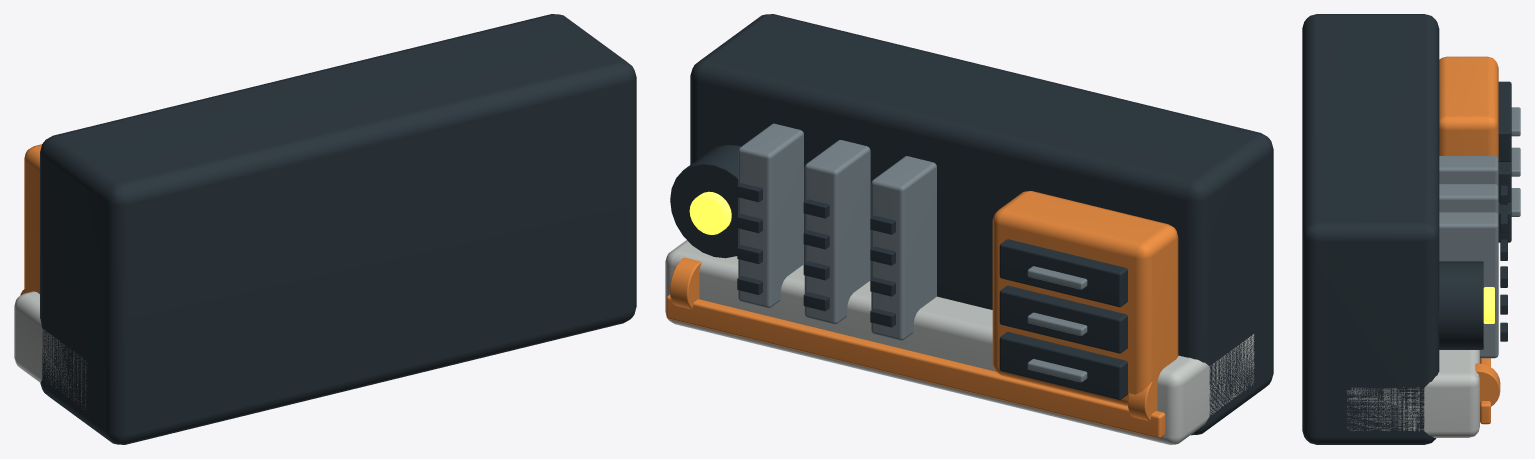
The model's file is SM_Dock_Weapon_Body.fbx.
3 renders of one model, left to right at view 1: azimuth 30°, elevation 25°; view 2: azimuth 150°, elevation 25°; view 3: azimuth 270°, elevation 25°, orthographic. The views are drawn at different scales.
Parts seen in each view (by area): view 1: SM_Dock_Weapon_Body; view 2: SM_Dock_Weapon_Body; view 3: SM_Dock_Weapon_Body.
Boxes of the visible parts, x1,y1,x2,y2 form: SM_Dock_Weapon_Body: [14, 14, 636, 444]; SM_Dock_Weapon_Body: [665, 14, 1273, 444]; SM_Dock_Weapon_Body: [1302, 14, 1520, 444].
Size of the model in its own units: 140 by 59 by 66.
